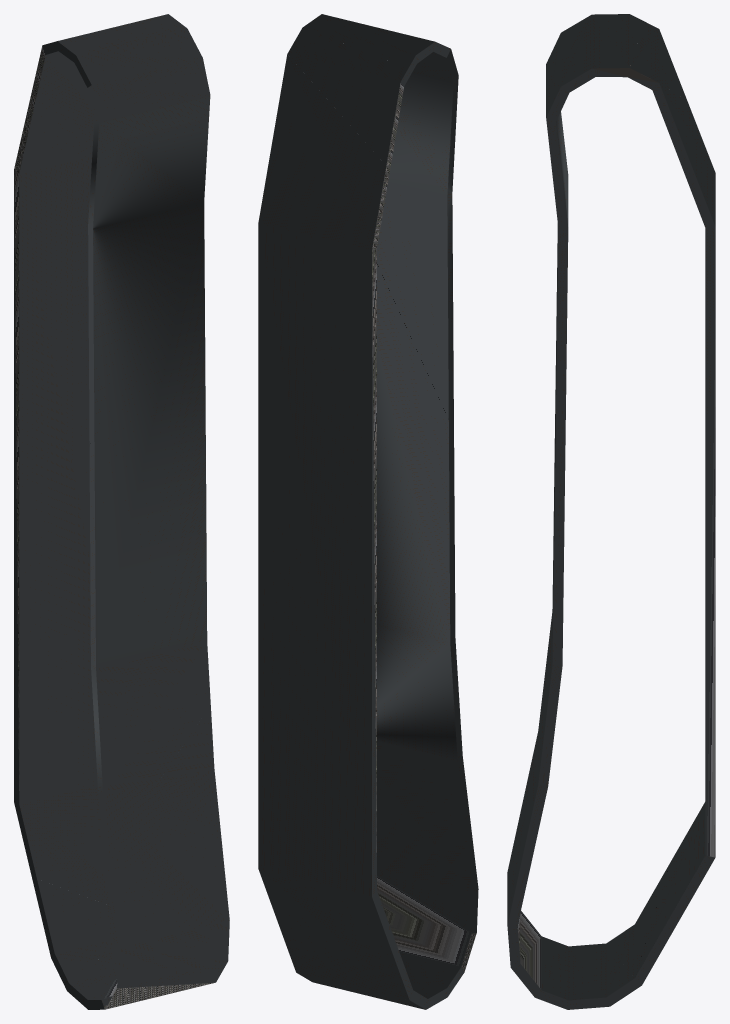
File: tr1.acii (copy).obj
The picture shows the model from 3 angles, left to right: view 1: azimuth 30°, elevation 25°; view 2: azimuth 150°, elevation 25°; view 3: azimuth 270°, elevation 25°; orthographic projection. The views are drawn at different scales.
Parts seen in each view (by area): view 1: object; view 2: object; view 3: object.
Boxes of the visible parts, x1,y1,x2,y2 form: object: (14,14,229,1009); object: (258,14,478,1009); object: (507,14,715,1009).
Size of the model in its own units: 0.8108 by 6.59 by 1.32.
Materials: 1 (1 with a texture image).
